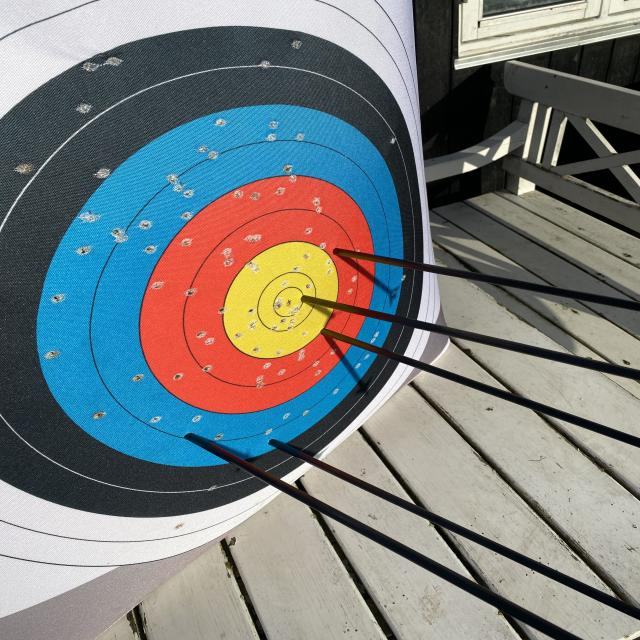Arrow_Blue: (165, 424, 212, 457), (264, 435, 286, 459)
Arrow_Red: (315, 236, 358, 268), (307, 319, 336, 345)
Arrow_Yellow: (293, 285, 321, 311)
